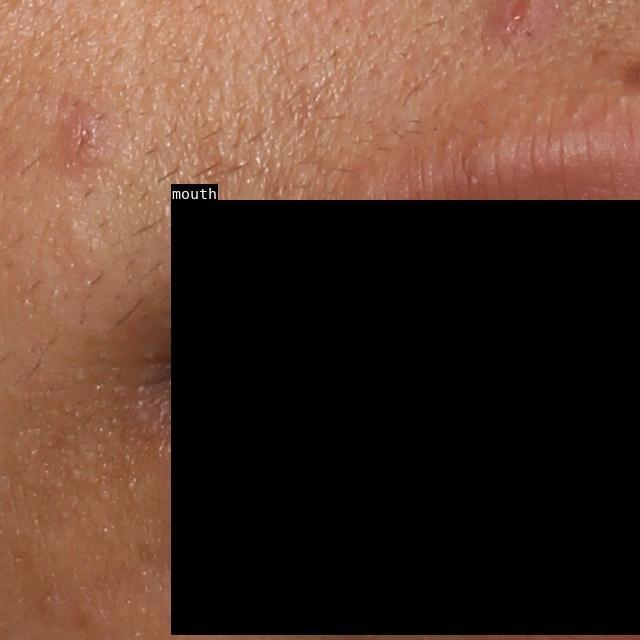papule: (53, 108, 120, 167)
